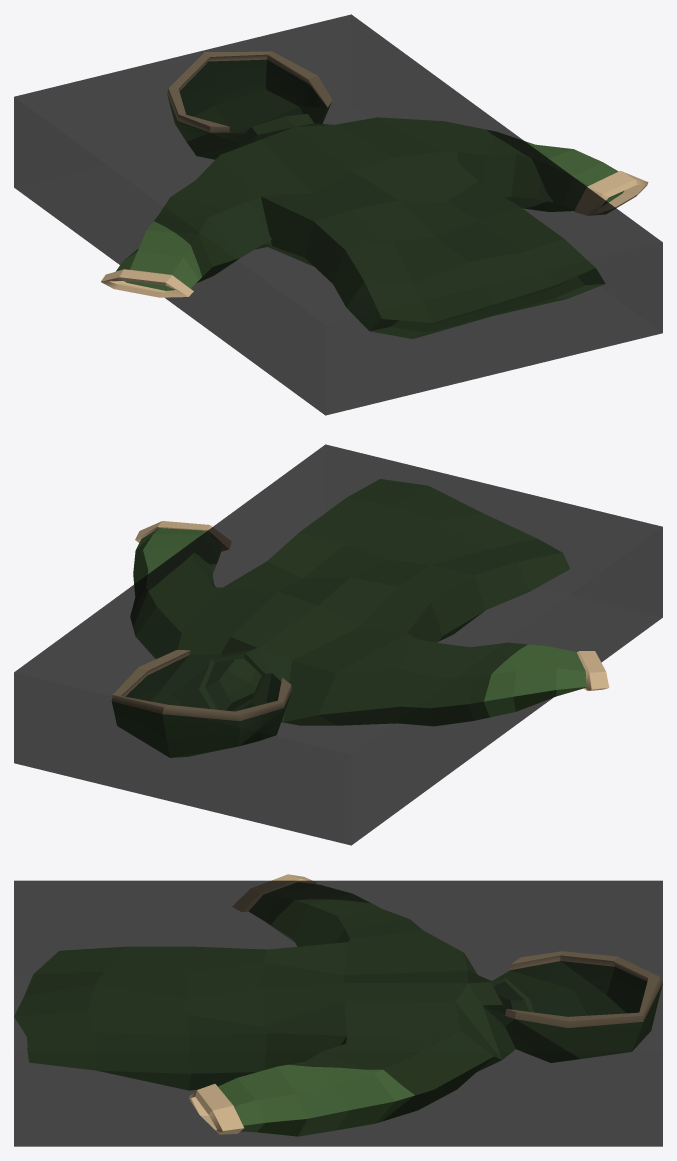
Rendered from Jacket.fbx.
3 renders of one model, top to bottom at view 1: azimuth 30°, elevation 25°; view 2: azimuth 150°, elevation 25°; view 3: azimuth 270°, elevation 25°, orthographic. The views are drawn at different scales.
Parts seen in each view (by area): view 1: Jacket_BBox, Jacket; view 2: Jacket_BBox, Jacket; view 3: Jacket_BBox, Jacket.
Part boxes in pixels (x1,y1,x2,y2): Jacket_BBox: (14,14,662,415); Jacket: (101,51,648,338); Jacket_BBox: (14,444,662,845); Jacket: (111,479,609,757); Jacket_BBox: (14,880,662,1146); Jacket: (14,874,662,1136).
Bounding box in the file's own units: 4.36 × 0.7439 × 4.62.
